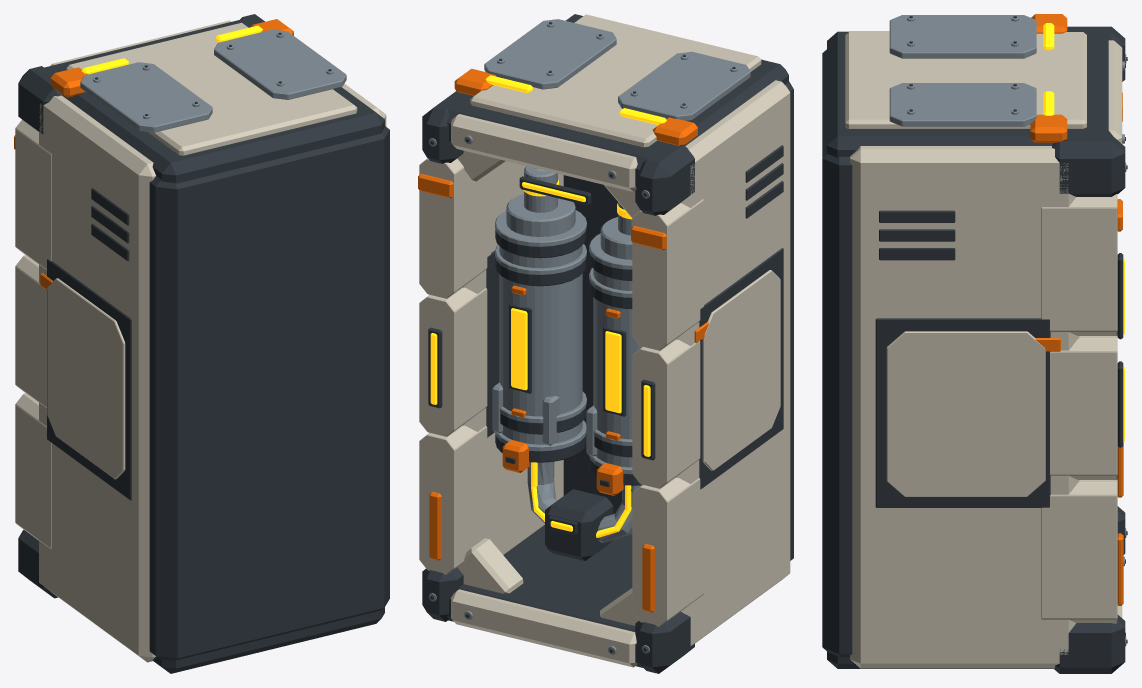
The model's file is VF_Refinery.fbx.
The picture shows the model from 3 angles, left to right: view 1: azimuth 30°, elevation 25°; view 2: azimuth 150°, elevation 25°; view 3: azimuth 270°, elevation 25°; orthographic projection. The views are drawn at different scales.
Visible parts, largest first — view 1: VF_Refinery_Graphite, VF_Refinery_Ivory, VF_Refinery_Steel, VF_Refinery_Orange, VF_Refinery_Amber; view 2: VF_Refinery_Ivory, VF_Refinery_Graphite, VF_Refinery_Steel, VF_Refinery_Orange, VF_Refinery_Amber; view 3: VF_Refinery_Ivory, VF_Refinery_Graphite, VF_Refinery_Steel, VF_Refinery_Orange, VF_Refinery_Amber.
Boxes of the visible parts, <box> form: VF_Refinery_Graphite: <box>18,14,389,673</box>; VF_Refinery_Ivory: <box>15,20,386,662</box>; VF_Refinery_Steel: <box>80,29,346,132</box>; VF_Refinery_Orange: <box>14,19,293,289</box>; VF_Refinery_Amber: <box>81,25,262,74</box>; VF_Refinery_Ivory: <box>419,14,790,667</box>; VF_Refinery_Graphite: <box>422,14,793,673</box>; VF_Refinery_Steel: <box>429,19,750,654</box>; VF_Refinery_Orange: <box>418,68,708,612</box>; VF_Refinery_Amber: <box>430,75,666,537</box>; VF_Refinery_Ivory: <box>845,32,1122,668</box>; VF_Refinery_Graphite: <box>822,16,1127,673</box>; VF_Refinery_Steel: <box>889,15,1126,646</box>; VF_Refinery_Orange: <box>1030,14,1123,605</box>; VF_Refinery_Amber: <box>1043,23,1124,441</box>.
Size of the model in its own units: 1 by 2 by 1.
